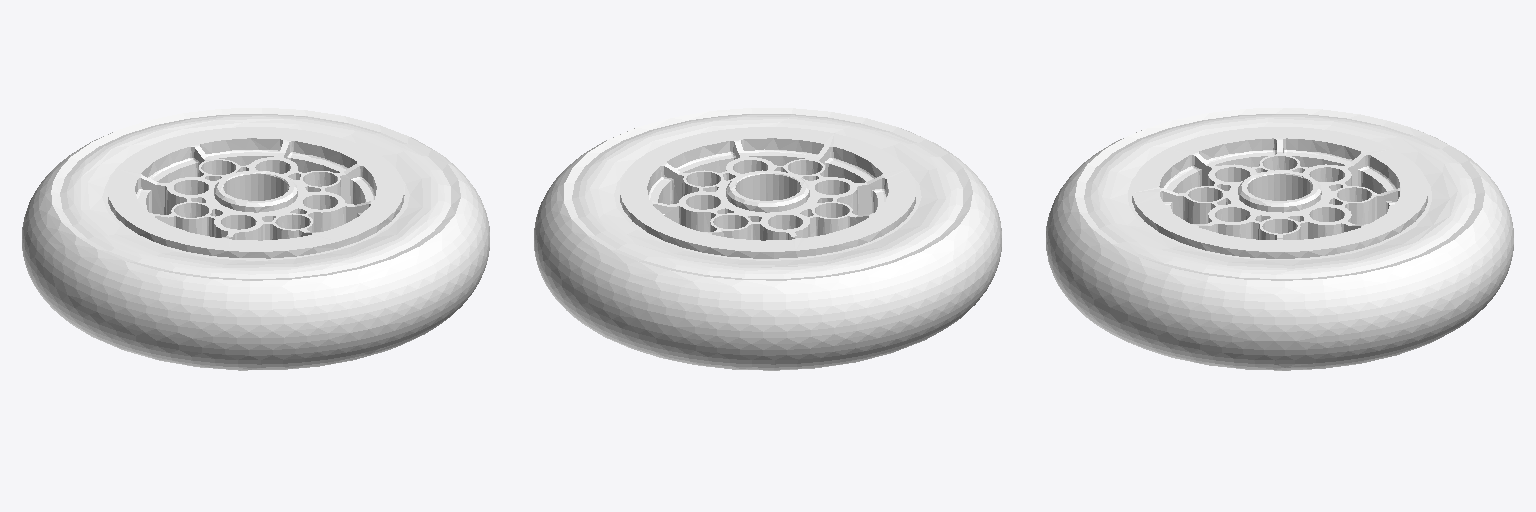
The model's file is wheel_h.obj.
The picture shows the model from 3 angles: view 1: azimuth 30°, elevation 25°; view 2: azimuth 150°, elevation 25°; view 3: azimuth 270°, elevation 25°; orthographic projection.
Size of the model in its own units: 1.58 by 0.5165 by 1.58.